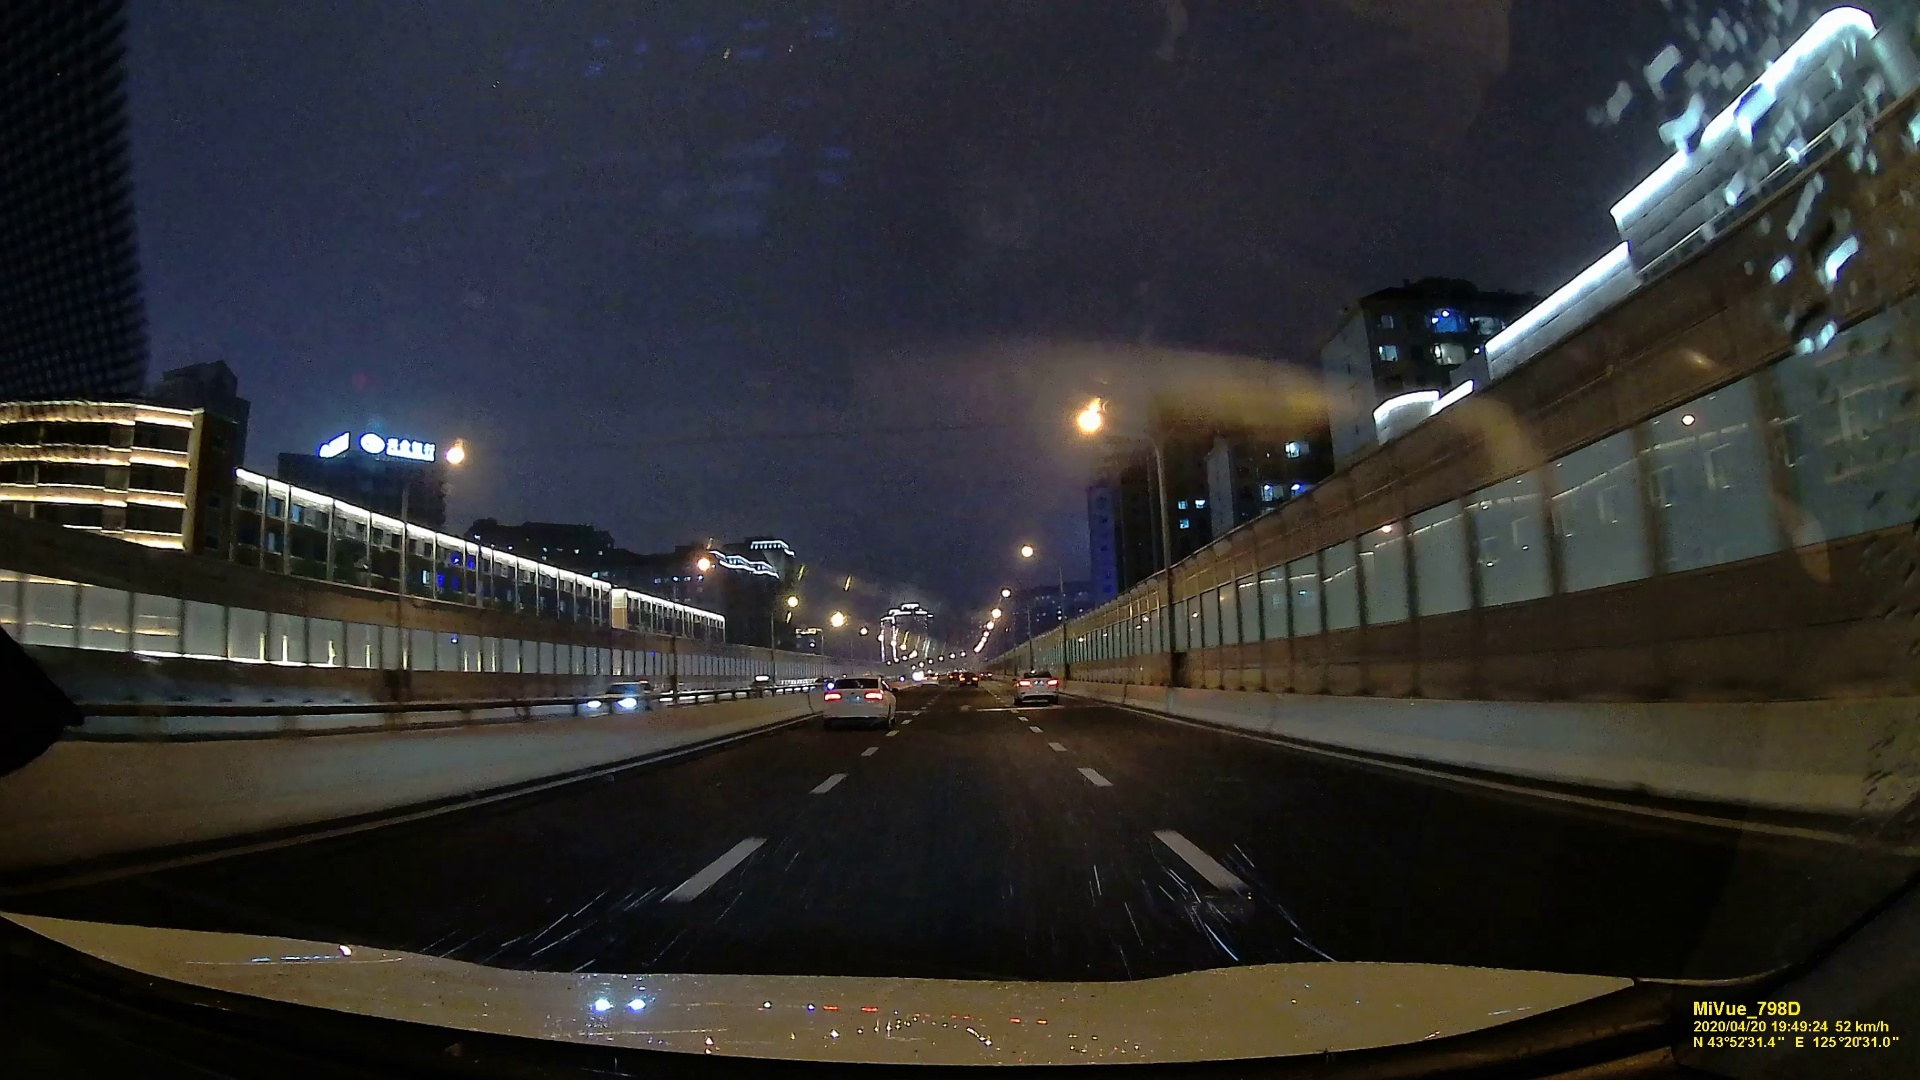vehicle: (822, 673, 899, 728), (587, 679, 663, 713), (1013, 666, 1062, 705), (959, 670, 978, 688)
